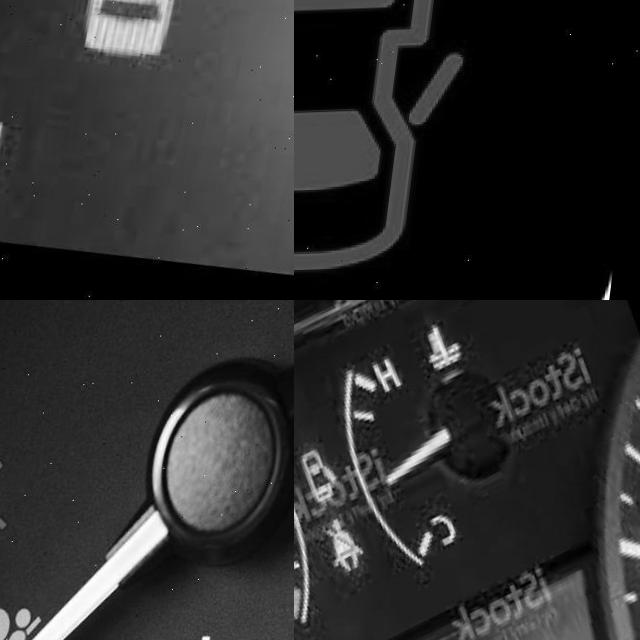Seat Belt: (327, 515, 382, 579), (0, 453, 22, 555)
